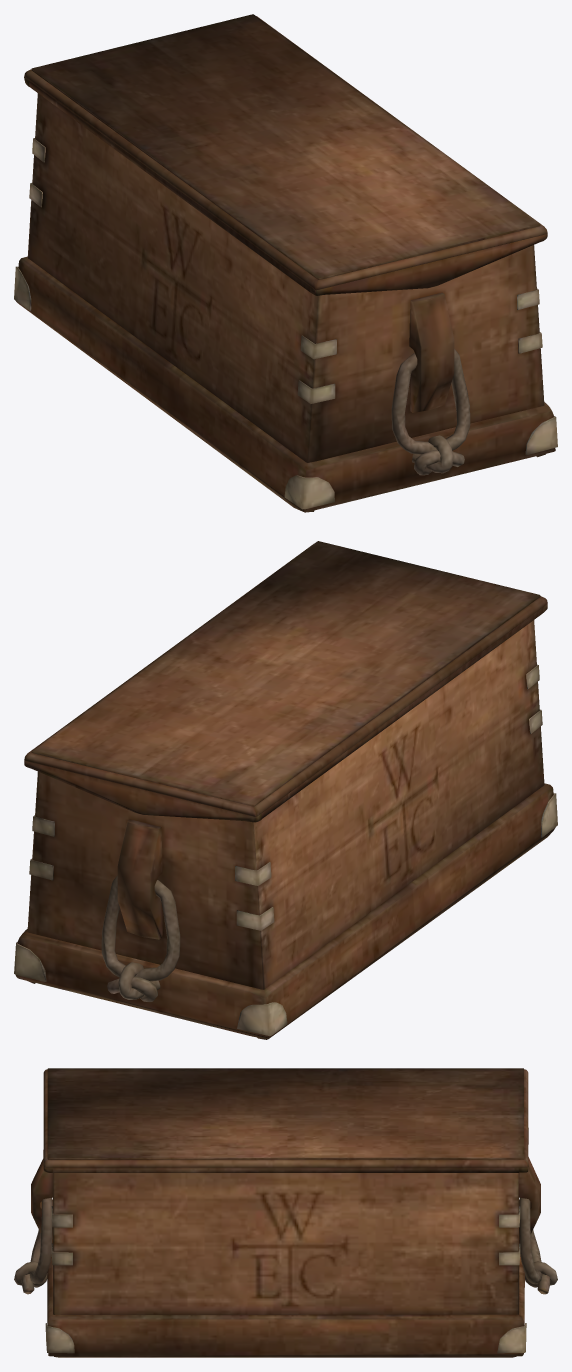
Rendered from wooden_crate_02.glb.
The picture shows the model from 3 angles, top to bottom: view 1: azimuth 30°, elevation 25°; view 2: azimuth 150°, elevation 25°; view 3: azimuth 270°, elevation 25°; orthographic projection. The views are drawn at different scales.
Parts seen in each view (by area): view 1: wooden_crate_02_crate, wooden_crate_02_lid; view 2: wooden_crate_02_crate, wooden_crate_02_lid; view 3: wooden_crate_02_crate, wooden_crate_02_lid.
Part boxes in pixels (bbox=[...]): wooden_crate_02_crate: bbox=[14, 93, 557, 512]; wooden_crate_02_lid: bbox=[24, 14, 547, 295]; wooden_crate_02_crate: bbox=[14, 620, 557, 1039]; wooden_crate_02_lid: bbox=[24, 541, 547, 822]; wooden_crate_02_crate: bbox=[14, 1157, 557, 1357]; wooden_crate_02_lid: bbox=[43, 1068, 528, 1172].
Size of the model in its own units: 0.5291 by 0.4639 by 1.17.
Materials: 1 (1 with a texture image).
